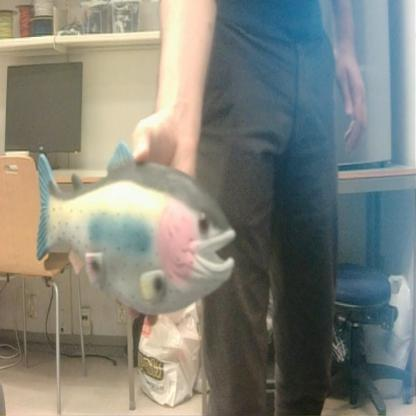rubberfish: (28, 140, 240, 318)
